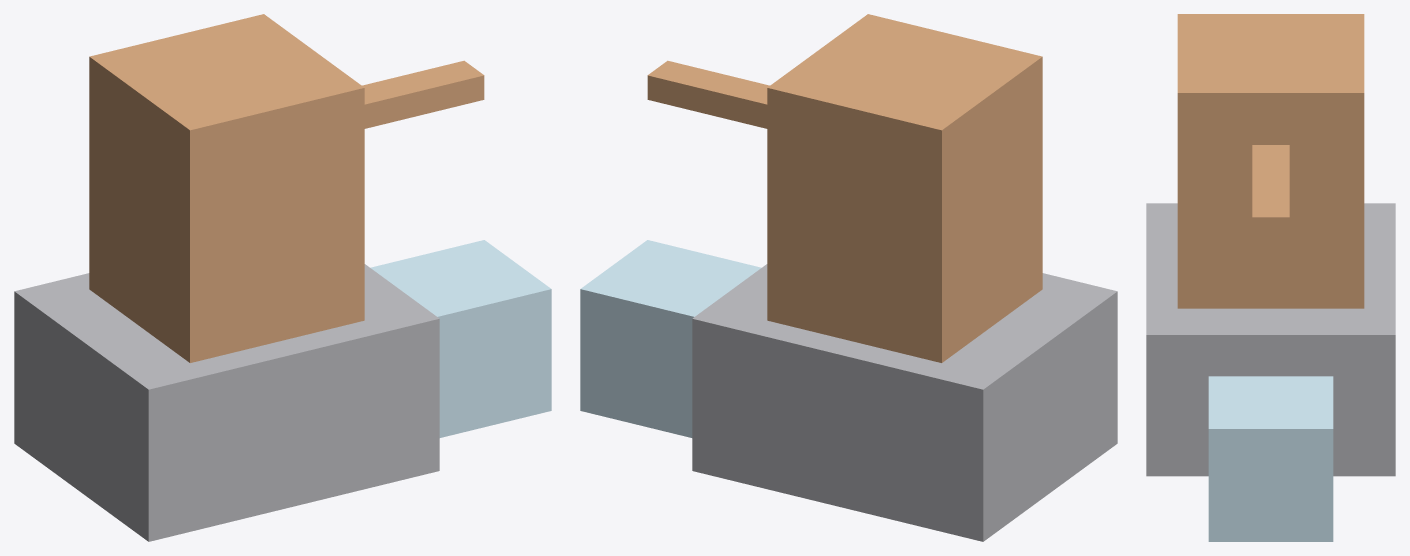
The model's file is Prop_Water_AMF_SolarStill_V1.glb.
The picture shows the model from 3 angles, left to right: view 1: azimuth 30°, elevation 25°; view 2: azimuth 150°, elevation 25°; view 3: azimuth 270°, elevation 25°; orthographic projection. The views are drawn at different scales.
Visible parts, largest first — view 1: Prop_Water_AMF_SolarStill_V1; view 2: Prop_Water_AMF_SolarStill_V1; view 3: Prop_Water_AMF_SolarStill_V1.
Part boxes in pixels (x1=…): Prop_Water_AMF_SolarStill_V1: x1=14, y1=14, x2=551, y2=541; Prop_Water_AMF_SolarStill_V1: x1=580, y1=14, x2=1117, y2=541; Prop_Water_AMF_SolarStill_V1: x1=1146, y1=14, x2=1395, y2=541.
Size of the model in its own units: 1.5 by 1.26 by 0.8.
